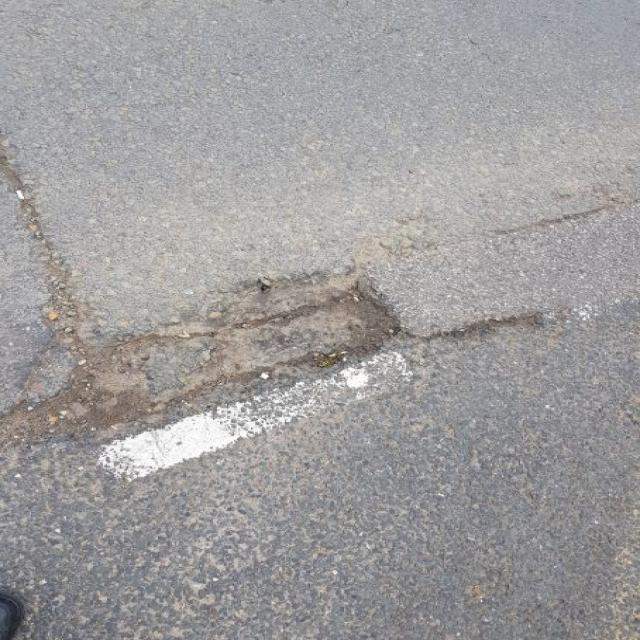Pothole: (1, 260, 413, 452)
